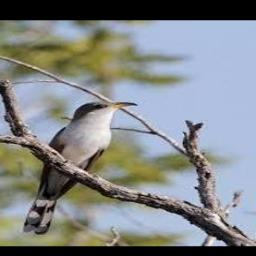Cuckoo: (23, 102, 137, 235)
